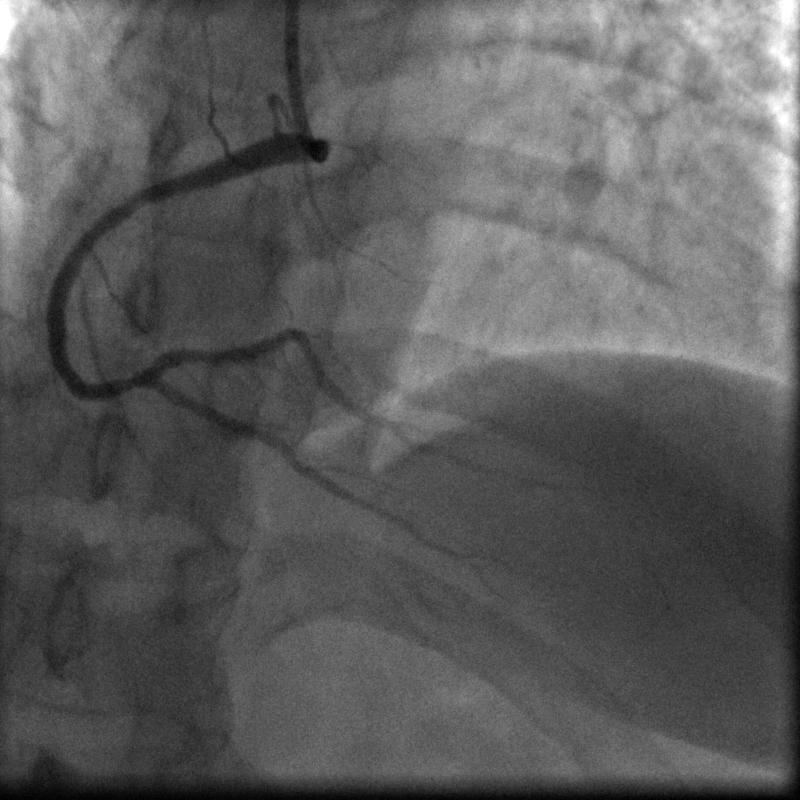Stenosis: (111, 372, 151, 396)
